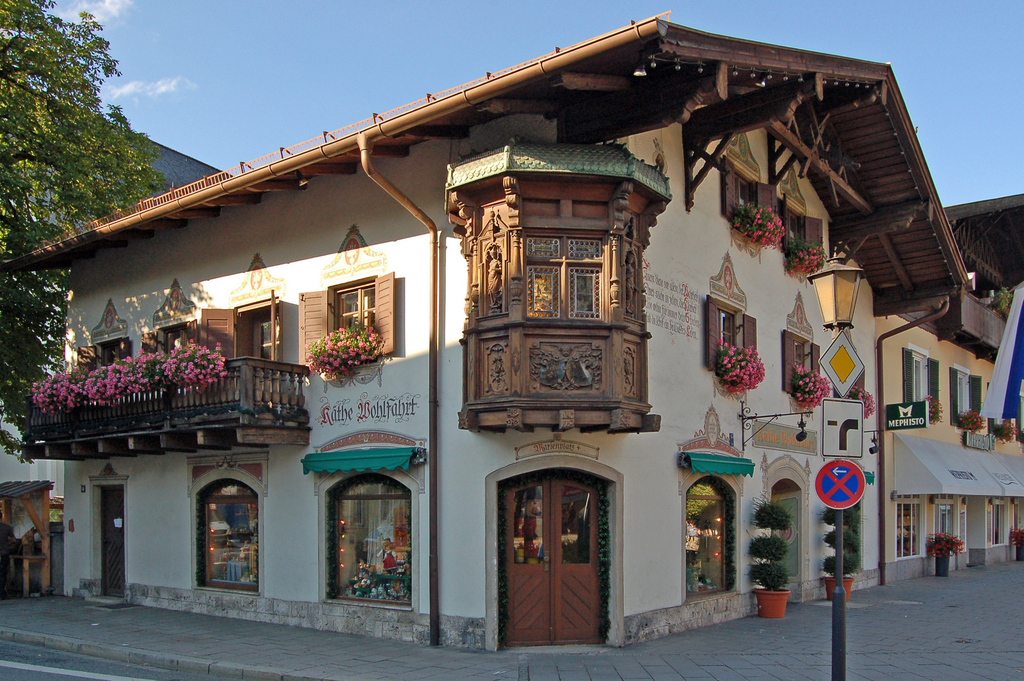door: (554, 480, 606, 632), (508, 487, 548, 622), (94, 489, 121, 593)
